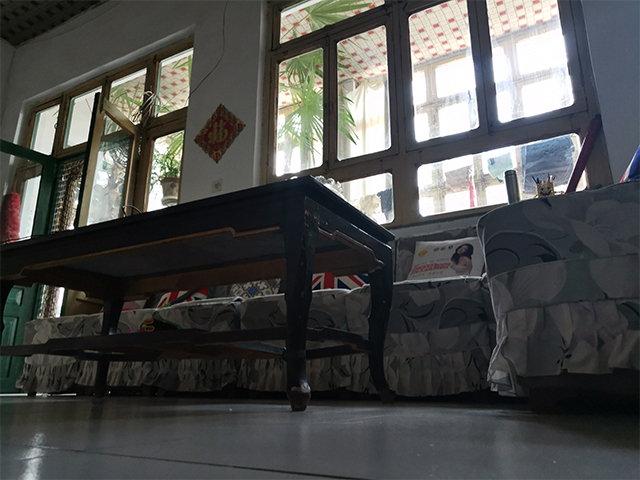sofa: (391, 150, 640, 415)
table: (1, 173, 398, 413)
